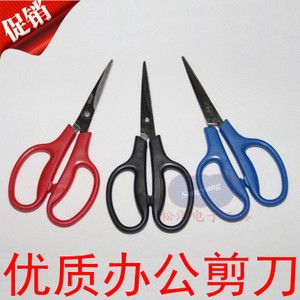scissor: (8, 43, 113, 228), (180, 54, 290, 222), (104, 59, 195, 234)
